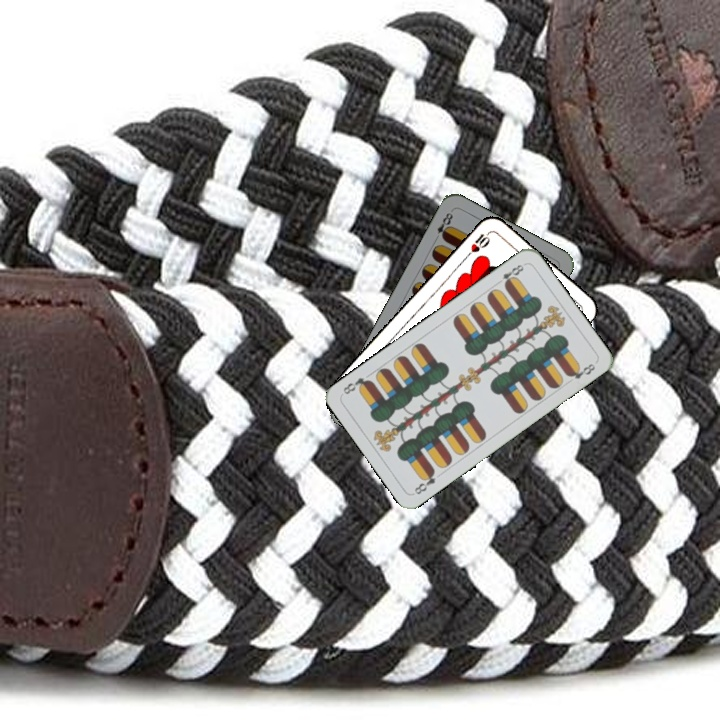E8: (492, 260, 526, 289), (430, 208, 456, 244), (410, 465, 438, 497)
H10: (462, 227, 494, 260)
